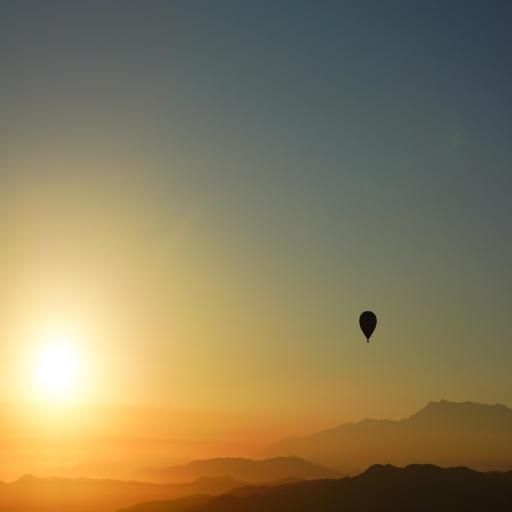hot air ballon: (359, 311, 377, 343)
